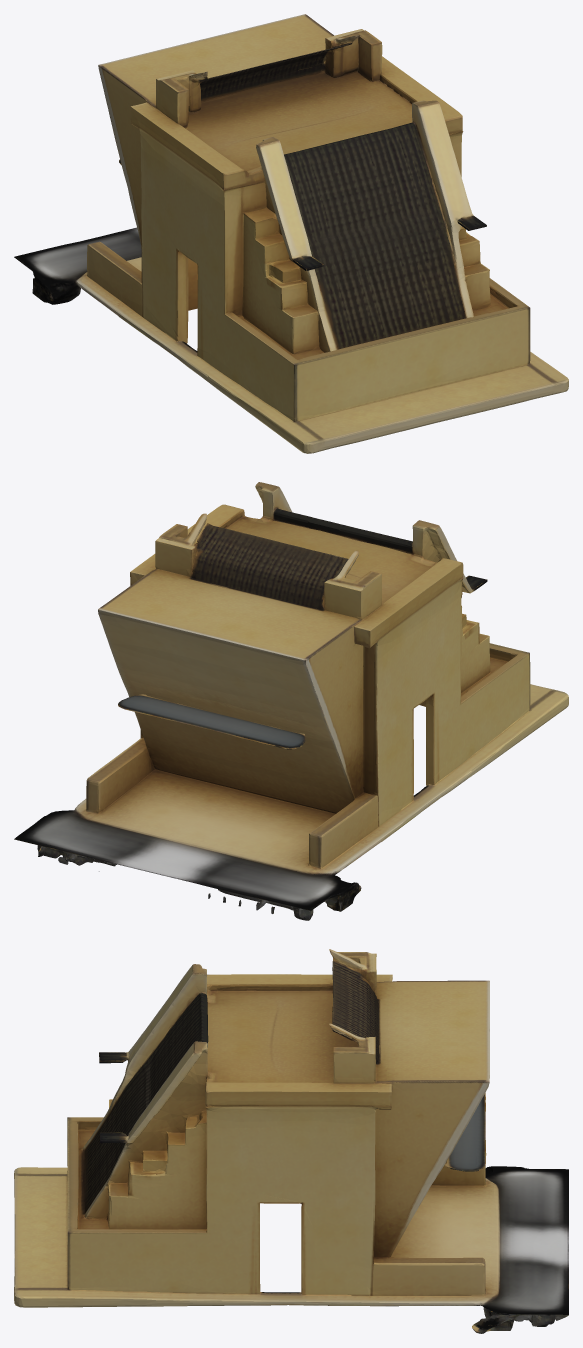
The picture shows the model from 3 angles, top to bottom: view 1: azimuth 30°, elevation 25°; view 2: azimuth 150°, elevation 25°; view 3: azimuth 270°, elevation 25°; orthographic projection.
Parts seen in each view (by area): view 1: world; view 2: world; view 3: world.
Boxes of the visible parts, x1,y1,x2,y2 form: world: (14, 14, 568, 453); world: (14, 482, 568, 920); world: (14, 949, 568, 1333).
Size of the model in its own units: 0.6483 by 0.5532 by 0.9999.
Materials: 1 (1 with a texture image).
